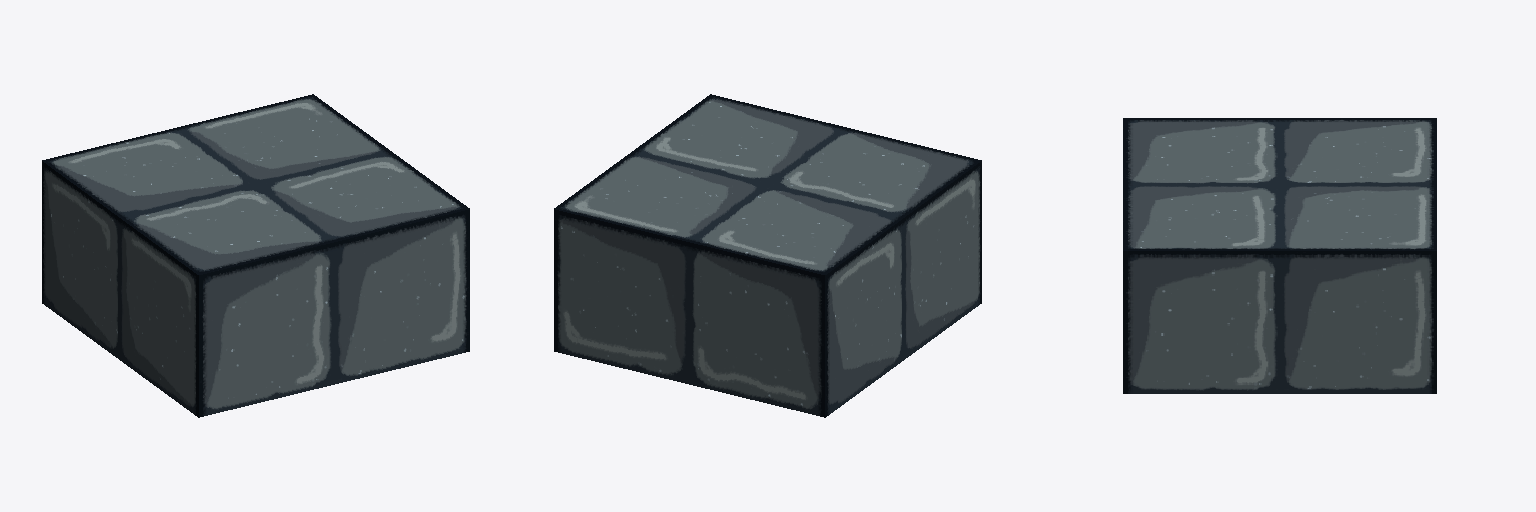
3 renders of one model, left to right at view 1: azimuth 30°, elevation 25°; view 2: azimuth 150°, elevation 25°; view 3: azimuth 270°, elevation 25°, orthographic.
Visible parts, largest first — view 1: 1_stone; view 2: 1_stone; view 3: 1_stone.
Boxes of the visible parts, x1=… form: 1_stone: x1=42, y1=94, x2=469, y2=417; 1_stone: x1=554, y1=94, x2=981, y2=417; 1_stone: x1=1123, y1=118, x2=1436, y2=393.
Size of the model in its own units: 1 by 0.5 by 1.
Materials: 1 (1 with a texture image).